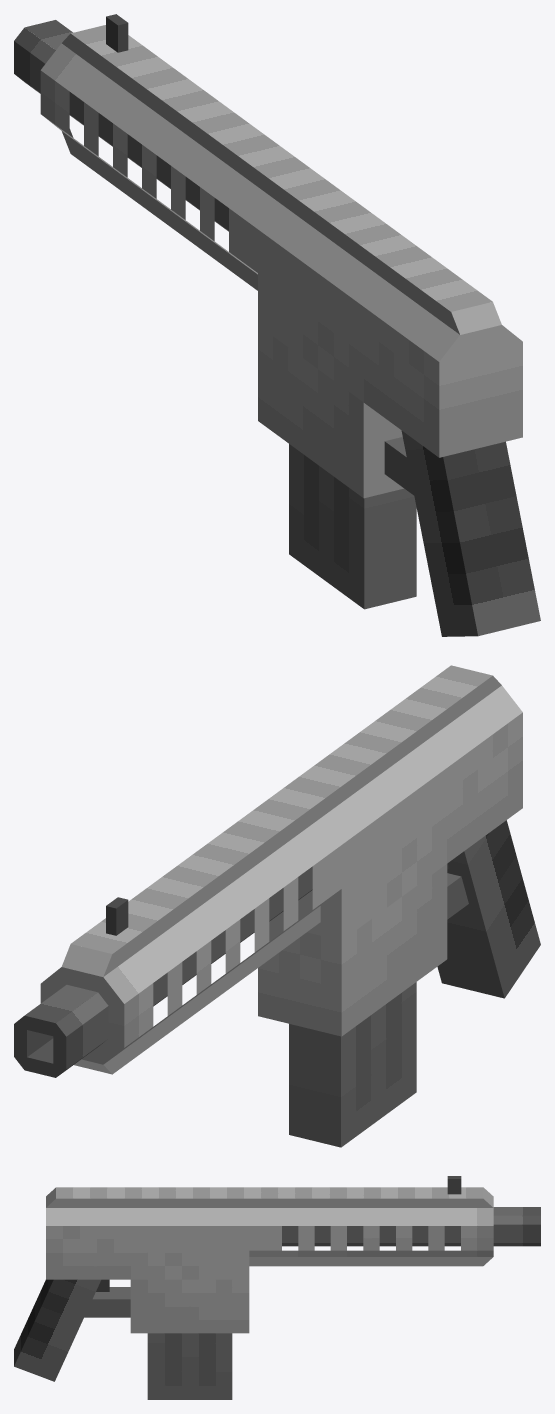
Rendered from assault_rifle.gltf.
3 views of the same model, one above another, from view 1: azimuth 30°, elevation 25°; view 2: azimuth 150°, elevation 25°; view 3: azimuth 270°, elevation 25° (orthographic). The views are drawn at different scales.
Visible parts, largest first — view 1: cube (×15); view 2: cube (×19); view 3: cube (×16).
Boxes of the visible parts, x1,y1,x2,y2 form: cube (×15): (14,14,540,636); cube (×19): (14,665,540,1147); cube (×16): (14,1176,540,1399).
Bounding box in the file's own units: 0.1 × 0.4375 × 0.9714.
Materials: 1 (1 with a texture image).
